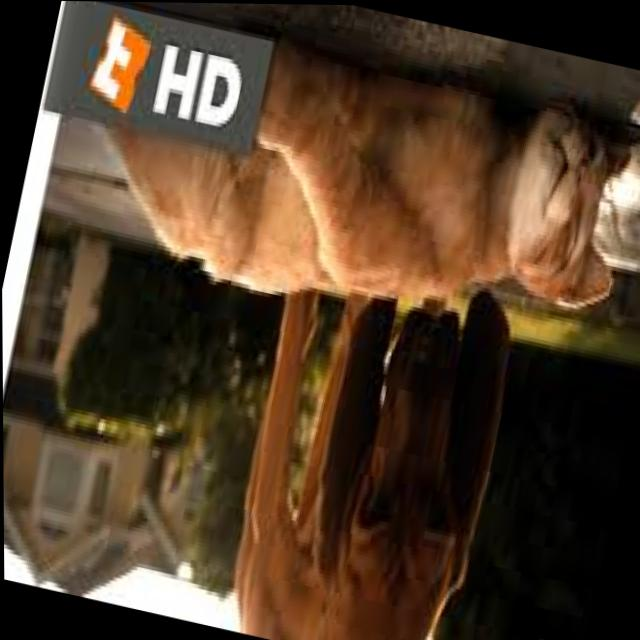Cat: (90, 1, 628, 357)
Dog: (223, 304, 522, 640)
